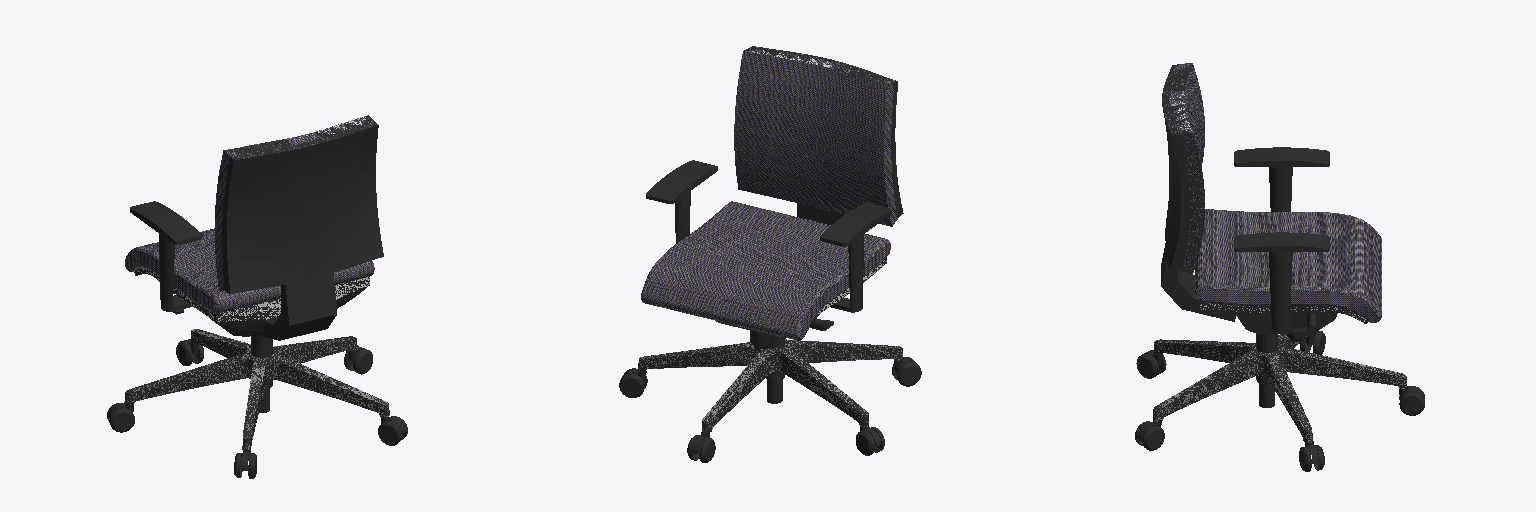
3 views of the same model, side by side, from view 1: azimuth 30°, elevation 25°; view 2: azimuth 150°, elevation 25°; view 3: azimuth 270°, elevation 25° (orthographic).
Visible parts, largest first — view 1: mesh17_mesh17-geometry, mesh14_mesh14-geometry, mesh4_mesh4-geometry, mesh16_mesh16-geometry, mesh2_mesh2-geometry, mesh11_mesh11-geometry, mesh13_mesh13-geometry, mesh1_mesh1-geometry; view 2: mesh17_mesh17-geometry, mesh4_mesh4-geometry, mesh14_mesh14-geometry, mesh2_mesh2-geometry, mesh6_mesh6-geometry, mesh1_mesh1-geometry, mesh13_mesh13-geometry, mesh11_mesh11-geometry, mesh5_mesh5-geometry, mesh3_mesh3-geometry, mesh16_mesh16-geometry; view 3: mesh4_mesh4-geometry, mesh14_mesh14-geometry, mesh17_mesh17-geometry, mesh2_mesh2-geometry, mesh6_mesh6-geometry, mesh5_mesh5-geometry, mesh3_mesh3-geometry, mesh16_mesh16-geometry, mesh13_mesh13-geometry, mesh11_mesh11-geometry, mesh1_mesh1-geometry.
Boxes of the visible parts, x1,y1,x2,y2 form: mesh17_mesh17-geometry: [215, 115, 383, 293]; mesh14_mesh14-geometry: [124, 329, 389, 449]; mesh4_mesh4-geometry: [125, 228, 374, 331]; mesh16_mesh16-geometry: [252, 273, 336, 340]; mesh2_mesh2-geometry: [130, 201, 201, 244]; mesh11_mesh11-geometry: [109, 341, 407, 478]; mesh13_mesh13-geometry: [107, 342, 402, 477]; mesh1_mesh1-geometry: [159, 234, 192, 311]; mesh17_mesh17-geometry: [734, 46, 903, 226]; mesh4_mesh4-geometry: [641, 201, 890, 340]; mesh14_mesh14-geometry: [638, 339, 903, 433]; mesh2_mesh2-geometry: [820, 203, 891, 246]; mesh6_mesh6-geometry: [646, 160, 717, 203]; mesh1_mesh1-geometry: [831, 235, 863, 312]; mesh13_mesh13-geometry: [624, 362, 921, 460]; mesh11_mesh11-geometry: [619, 331, 912, 462]; mesh5_mesh5-geometry: [675, 191, 690, 243]; mesh3_mesh3-geometry: [716, 318, 833, 348]; mesh16_mesh16-geometry: [797, 203, 843, 224]; mesh4_mesh4-geometry: [1195, 209, 1381, 323]; mesh14_mesh14-geometry: [1153, 334, 1407, 442]; mesh17_mesh17-geometry: [1162, 63, 1204, 274]; mesh2_mesh2-geometry: [1234, 147, 1329, 166]; mesh6_mesh6-geometry: [1234, 232, 1329, 251]; mesh5_mesh5-geometry: [1269, 252, 1292, 330]; mesh3_mesh3-geometry: [1235, 313, 1337, 341]; mesh16_mesh16-geometry: [1161, 243, 1235, 321]; mesh13_mesh13-geometry: [1135, 331, 1424, 471]; mesh11_mesh11-geometry: [1136, 338, 1424, 470]; mesh1_mesh1-geometry: [1269, 167, 1292, 211].
Size of the model in its own units: 0.5577 by 0.6356 by 0.5339.
Materials: 4 (1 with a texture image).